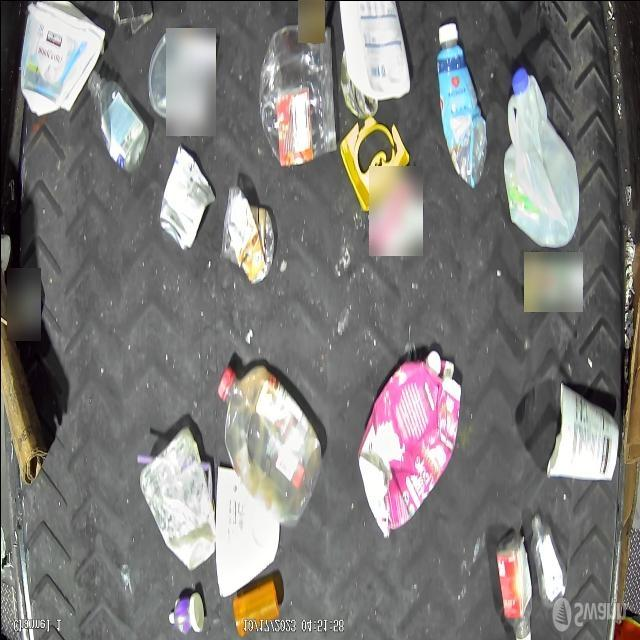milk_jug: (504, 65, 581, 247)
non_white_jug: (356, 348, 462, 540)
plastic_bottle: (218, 366, 322, 526), (526, 512, 566, 605)
